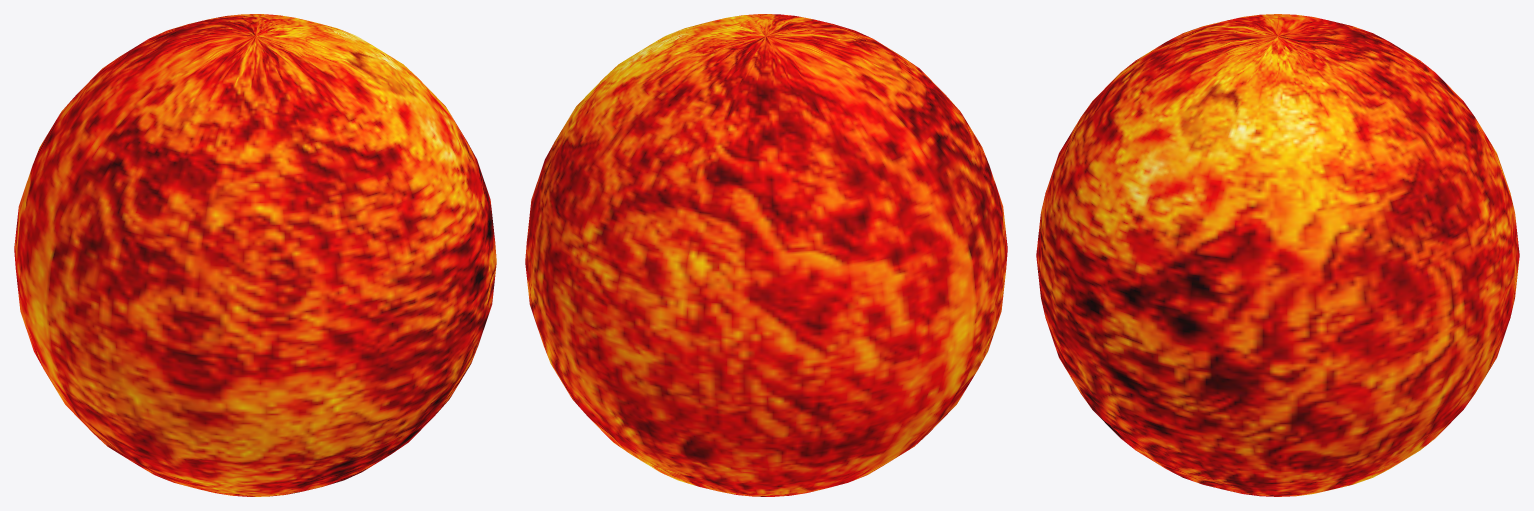
Rendered from Astrax.glb.
3 views of the same model, side by side, from view 1: azimuth 30°, elevation 25°; view 2: azimuth 150°, elevation 25°; view 3: azimuth 270°, elevation 25° (orthographic).
Parts seen in each view (by area): view 1: Object_3; view 2: Object_3; view 3: Object_3.
Part boxes in pixels (x1=…): Object_3: x1=14, y1=14, x2=496, y2=496; Object_3: x1=525, y1=14, x2=1007, y2=496; Object_3: x1=1036, y1=14, x2=1519, y2=496.
Bounding box in the file's own units: 45.41 × 45.41 × 45.41.
Materials: 2 (2 with a texture image).
